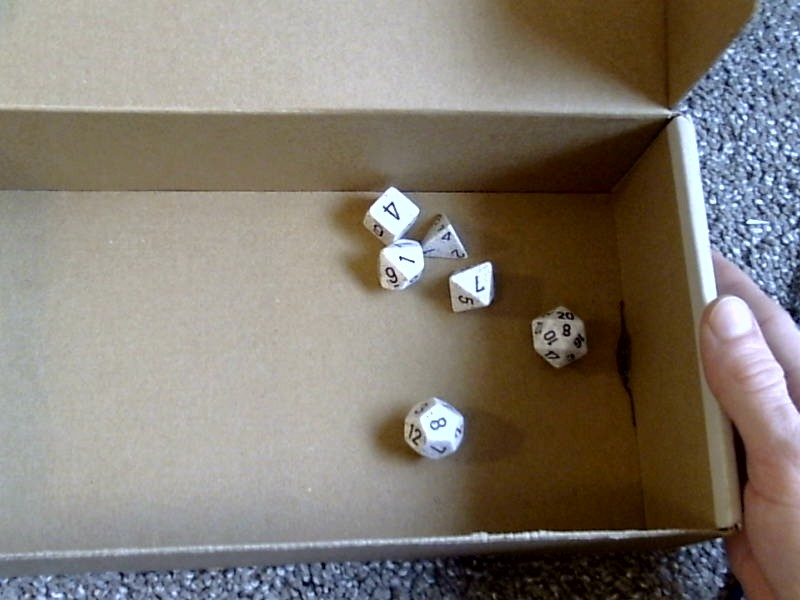d10 1: (373, 239, 429, 299)
d12 8: (397, 396, 468, 463)
d20 8: (526, 303, 593, 374)
d4 4: (421, 207, 469, 262)
d6 4: (355, 181, 422, 244)
d8 7: (447, 261, 498, 320)
